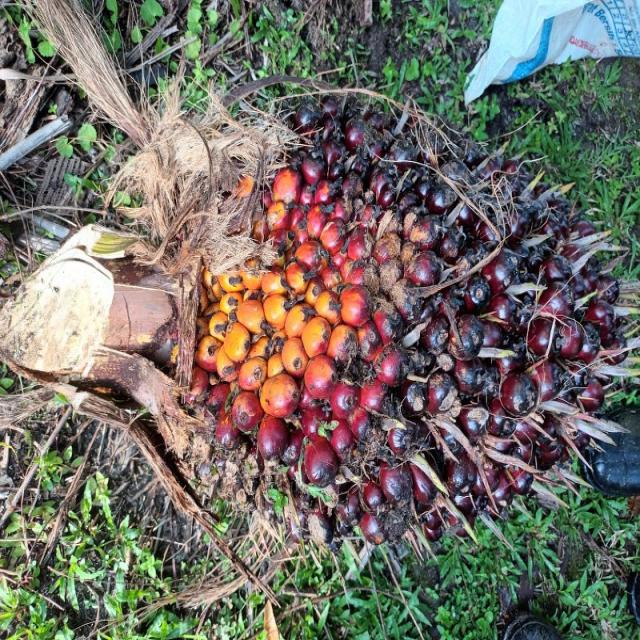fraksi 1: (88, 101, 631, 550)
